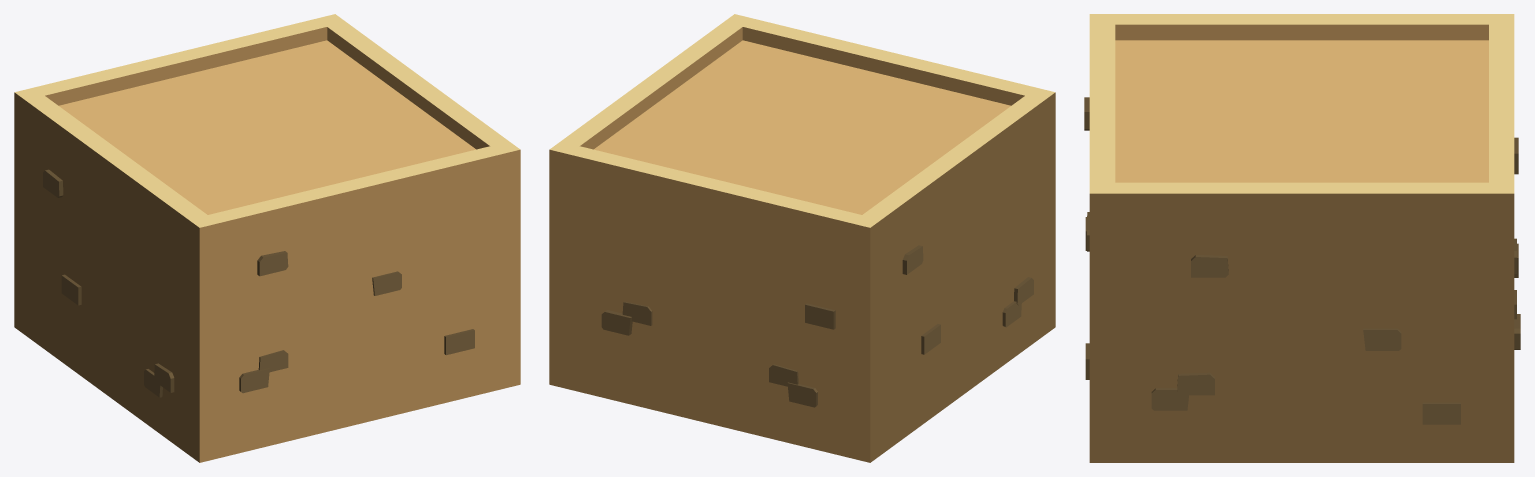
File: TB_D_Bd_Body_Yel.FBX
3 views of the same model, side by side, from view 1: azimuth 30°, elevation 25°; view 2: azimuth 150°, elevation 25°; view 3: azimuth 270°, elevation 25° (orthographic). The views are drawn at different scales.
Parts seen in each view (by area): view 1: TB_D_Bd_Body_Yel; view 2: TB_D_Bd_Body_Yel; view 3: TB_D_Bd_Body_Yel.
Boxes of the visible parts, <box> form: TB_D_Bd_Body_Yel: <box>14,14,520,462</box>; TB_D_Bd_Body_Yel: <box>549,14,1055,462</box>; TB_D_Bd_Body_Yel: <box>1084,14,1520,462</box>.
Bounding box in the file's own units: 5.12 × 3.5 × 5.14.
